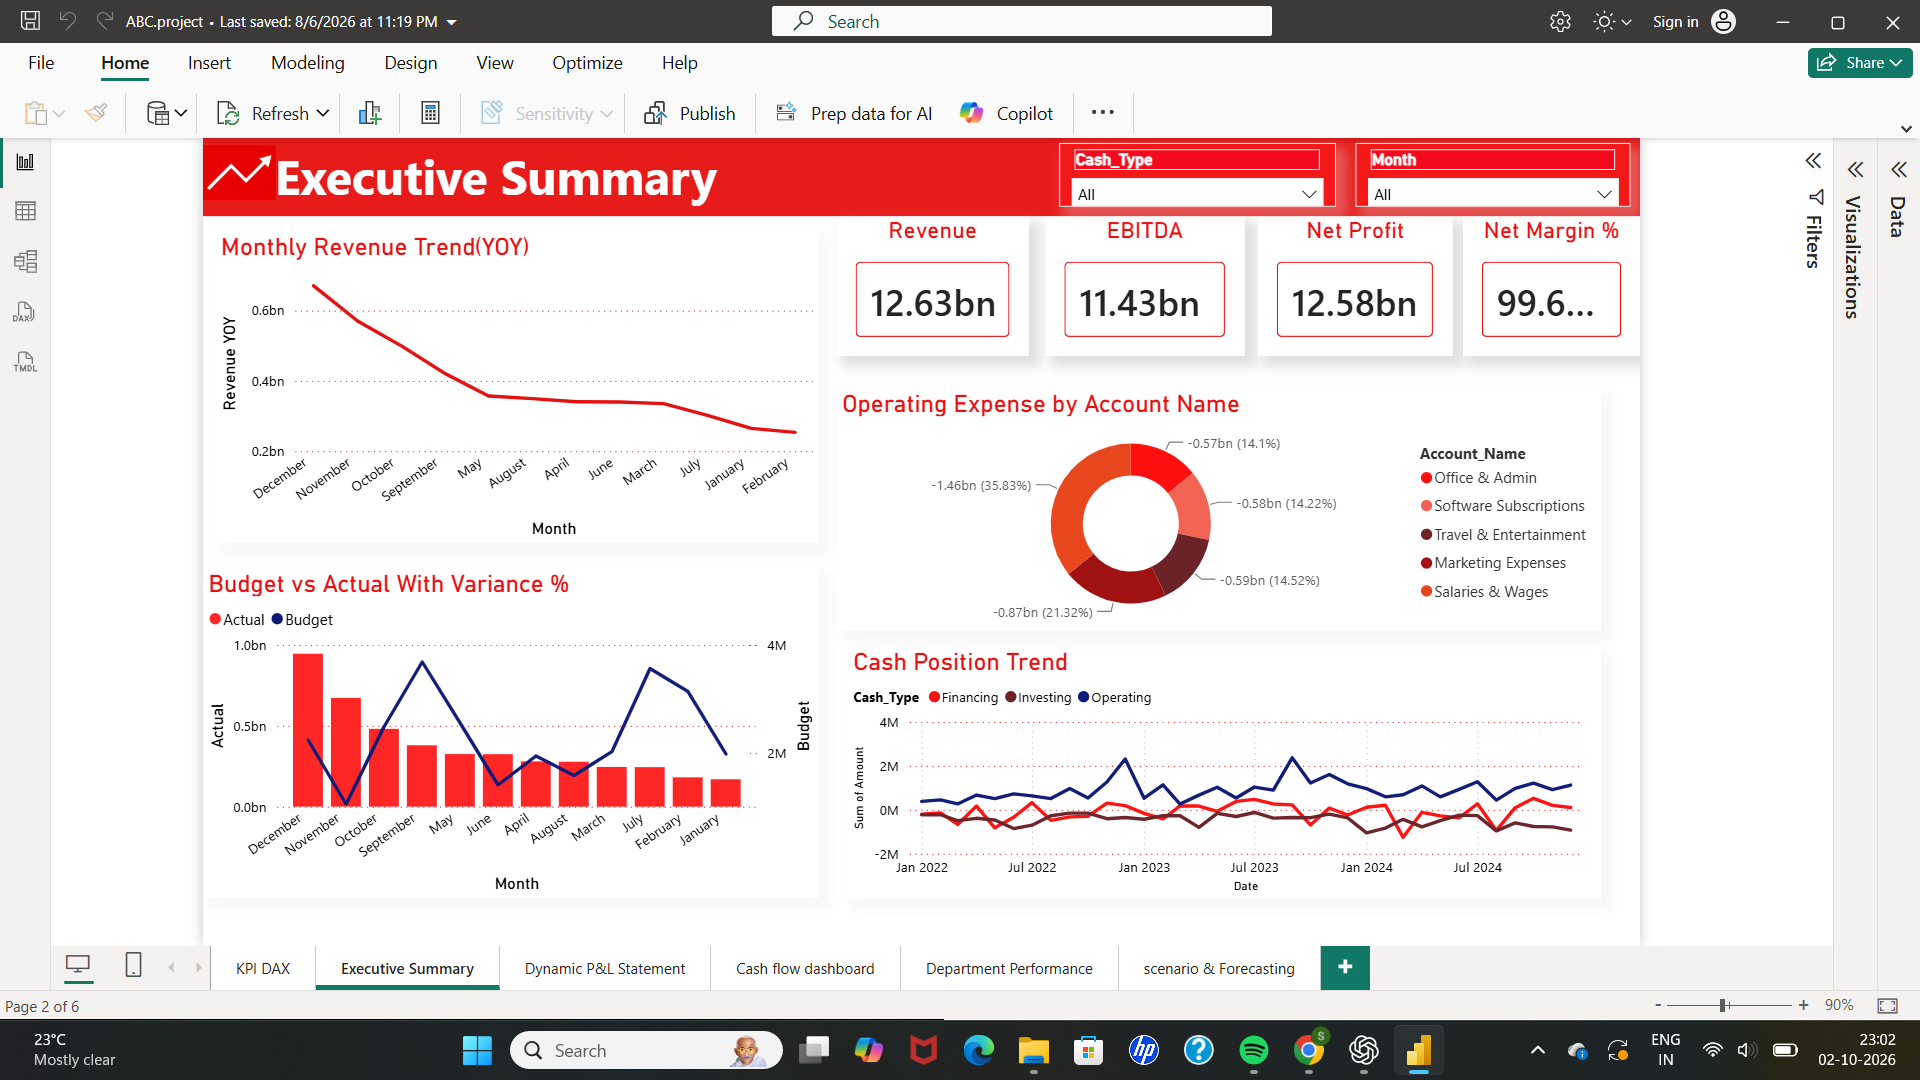

This screenshot's page, from the dashboard's own definition file:
{"tool":"powerbi","page":{"name":"Executive Summary","canvas":[1280,720],"ordinal":1},"visuals":[{"type":"textbox","box":[0,0,1280.3,69.7],"z":0},{"type":"cardVisual","title":"Revenue","fields":{"Data":["KPI DAX.Revenue"]},"box":[564.6,70,171.3,124.3],"z":1000},{"type":"cardVisual","title":"EBITDA","fields":{"Data":["KPI DAX.EBITDA"]},"box":[750.4,70,177.3,124.3],"z":2000},{"type":"cardVisual","title":"Net Profit","fields":{"Data":["KPI DAX.Net Profit"]},"box":[939.8,70,173.7,124.3],"z":3000},{"type":"cardVisual","title":"Net Margin %","fields":{"Data":["KPI DAX.Net Margin %"]},"box":[1122,70,158,124.3],"z":4000},{"type":"lineChart","title":"Monthly Revenue Trend(YOY)","fields":{"Category":["Dim_Date.Month"],"Y":["KPI DAX.Revenue YOY"]},"box":[10.9,84.5,536.9,276.3],"z":5000},{"type":"image","box":[0,0,65.1,61.5],"z":6000},{"type":"donutChart","title":"Operating Expense by Account Name","fields":{"Category":["Dim_Account.Account_Name"],"Y":["KPI DAX.Operating Expense"]},"box":[564.4,223.3,681.1,215.6],"z":7000},{"type":"lineClusteredColumnComboChart","title":"Budget vs Actual With Variance %","fields":{"Category":["Dim_Date.Month"],"Y":["KPI DAX.Actual"],"Y2":["KPI DAX.Budget"]},"box":[0,383.6,547.7,293.2],"z":8000},{"type":"lineChart","title":"Cash Position Trend","fields":{"Category":["LocalDateTable_c86f9478-bc37-4a50-bf41-66dbb010b3b7.Date"],"Y":["Sum(Fact_CashFlow.Amount)"],"Series":["Fact_CashFlow.Cash_Type"]},"box":[574.3,453.6,670.8,223.2],"z":9000},{"type":"slicer","fields":{"Values":["Dim_Date.Month"]},"box":[1026.7,4.8,244.9,56.7],"z":11000},{"type":"slicer","fields":{"Values":["Fact_CashFlow.Cash_Type"]},"box":[762.5,4.8,246.1,56.7],"z":12000}]}

Visuals, with their boxes on the page's 1280x720 design canvas (x1, y1, x2, y2). These are canvas units, not pixel positions in the 1920x1080 screenshot, which may show the page scaled, cropped or inside an application window:
textbox: (0,0,1280,70)
"Revenue" cardVisual: (565,70,736,194)
"EBITDA" cardVisual: (750,70,928,194)
"Net Profit" cardVisual: (940,70,1114,194)
"Net Margin %" cardVisual: (1122,70,1280,194)
"Monthly Revenue Trend(YOY)" lineChart: (11,84,548,361)
image: (0,0,65,62)
"Operating Expense by Account Name" donutChart: (564,223,1246,439)
"Budget vs Actual With Variance %" lineClusteredColumnComboChart: (0,384,548,677)
"Cash Position Trend" lineChart: (574,454,1245,677)
slicer - Dim_Date.Month: (1027,5,1272,62)
slicer - Fact_CashFlow.Cash_Type: (762,5,1009,62)
